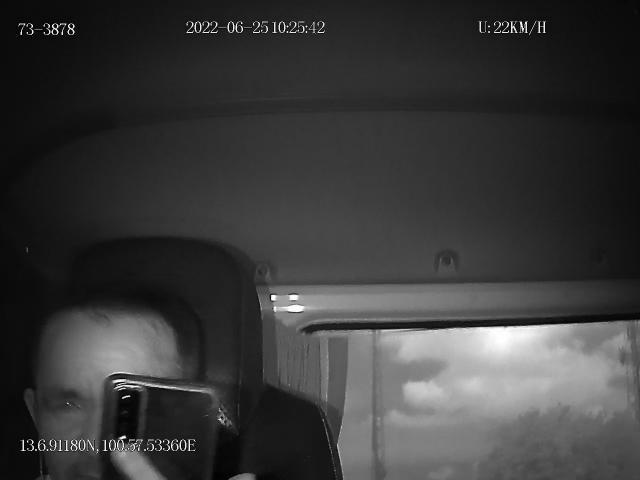PhoneUse: (102, 372, 220, 480)
